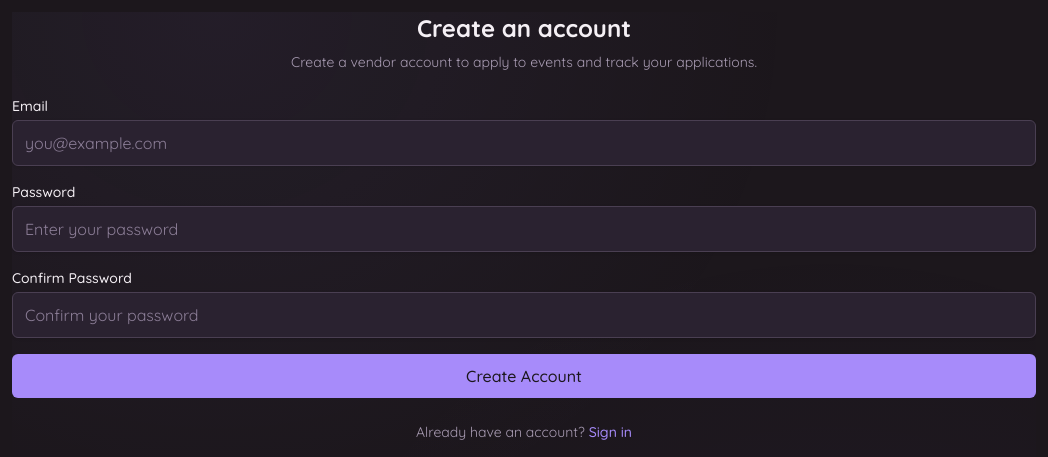
SignupPage success message › shows the message the action returned
This screenshot has width=1048, height=457.
Type "vendor@example.com" into the field labelled "Email" at (524, 143), box [12,120,1036,166]
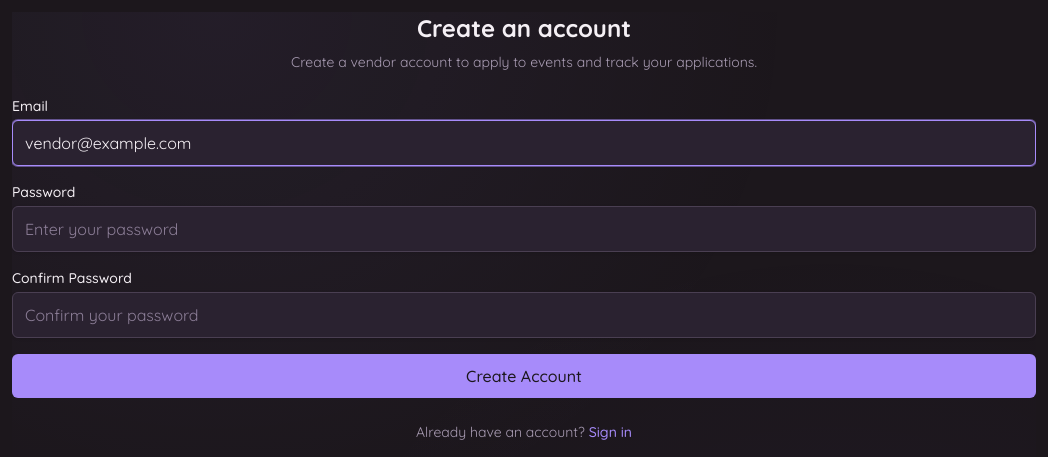
Type "secret123" into the password field labelled "Password" at (524, 229), box [12,206,1036,252]
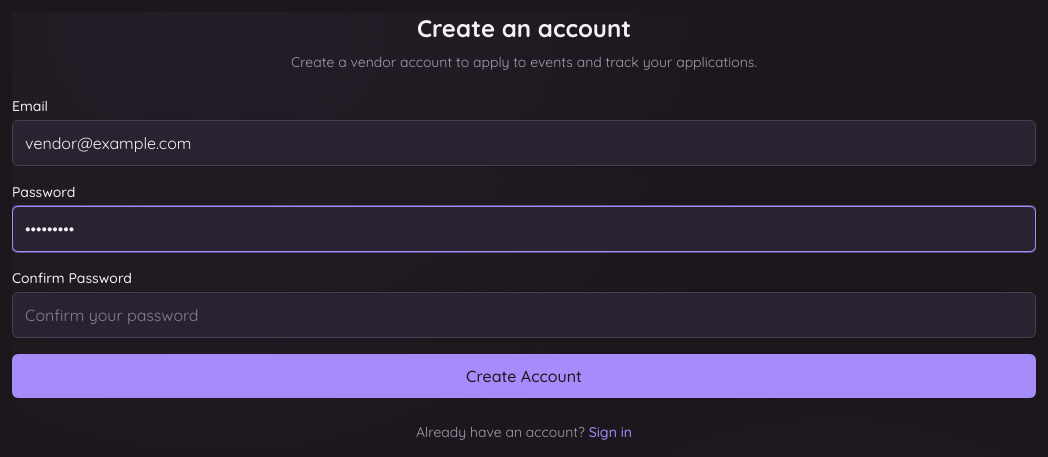
Type "secret123" into the password field labelled "Confirm Password" at (524, 315), box [12,292,1036,338]
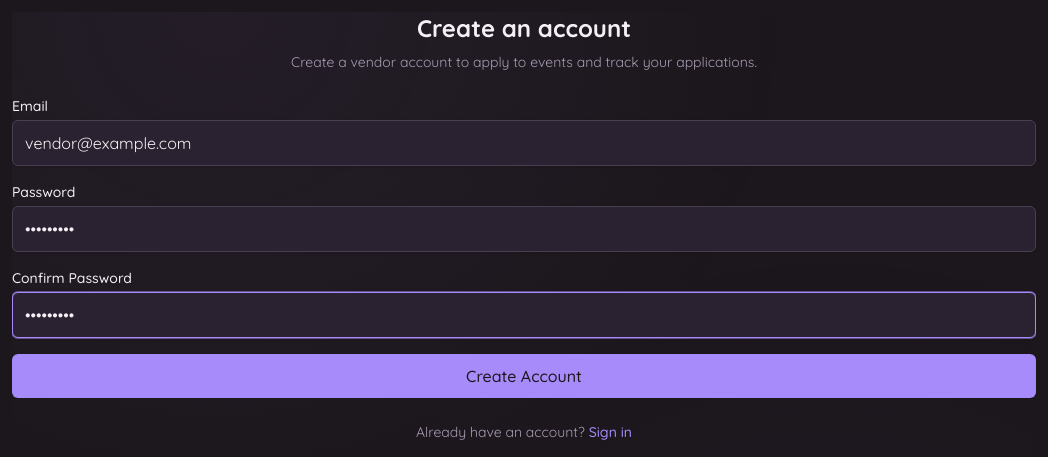
Click the button "Create Account" at (524, 376), box [12,354,1036,398]
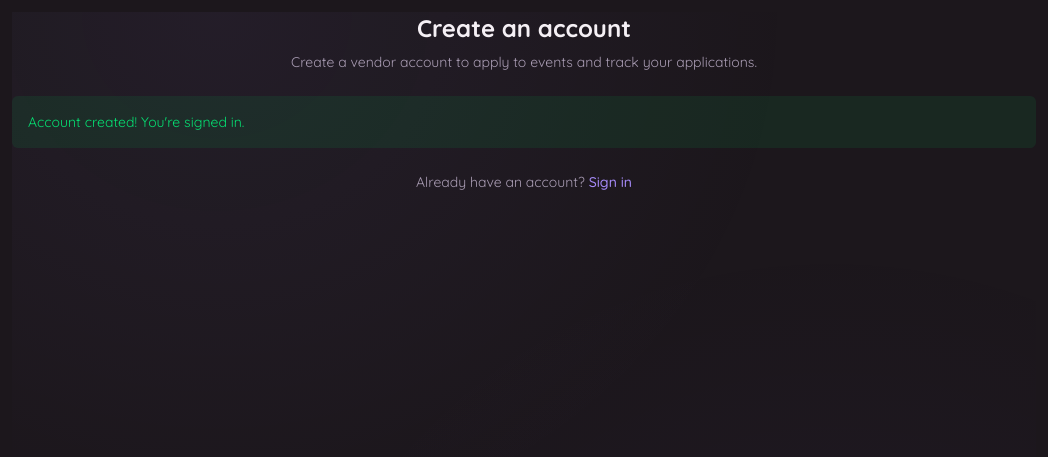
Check: the text "Account created! You're signed in." is shown, box [28,113,244,131]
